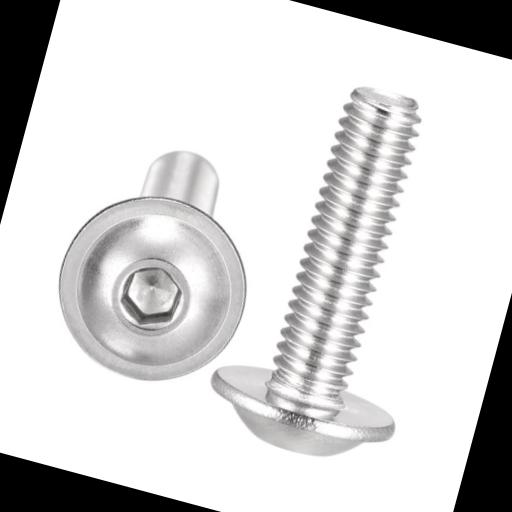Hex-Allen: (34, 172, 271, 408)
